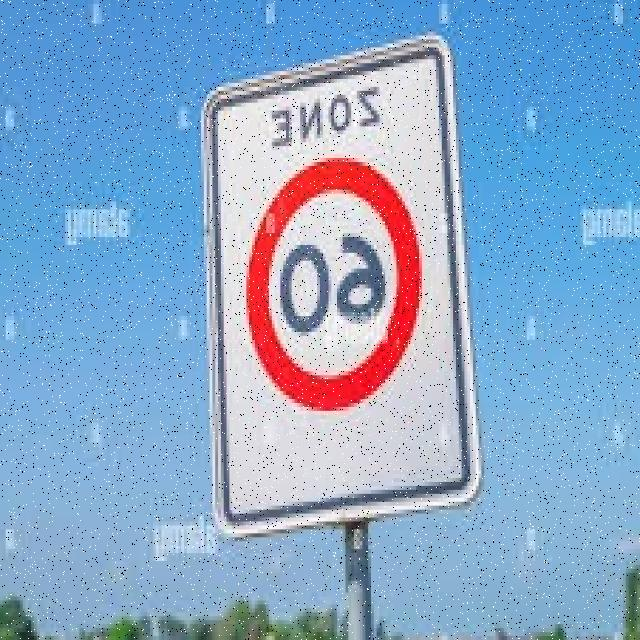speed_limit_60: (237, 152, 423, 427)
